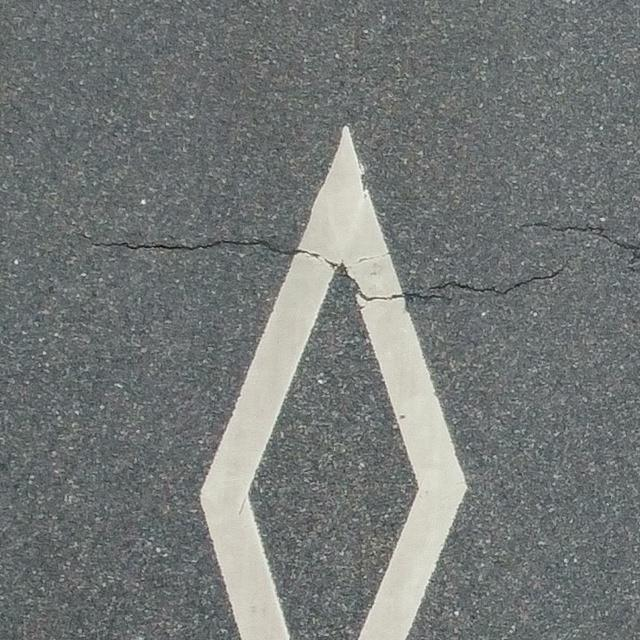TransverseCrack: (93, 238, 571, 302), (522, 217, 640, 254)
